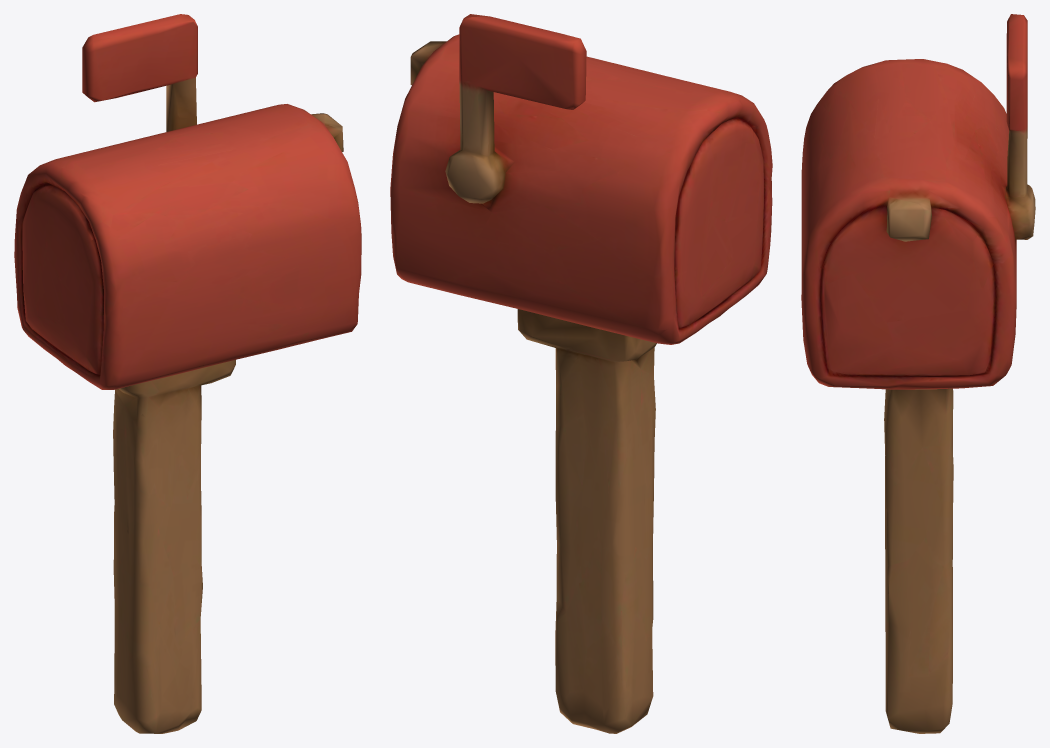
Rendered from mailbox.glb.
3 renders of one model, left to right at view 1: azimuth 30°, elevation 25°; view 2: azimuth 150°, elevation 25°; view 3: azimuth 270°, elevation 25°, orthographic. The views are drawn at different scales.
Visible parts, largest first — view 1: tripo_node_06138657-11fa-49fa-8481-a0b28470b6f9; view 2: tripo_node_06138657-11fa-49fa-8481-a0b28470b6f9; view 3: tripo_node_06138657-11fa-49fa-8481-a0b28470b6f9.
Boxes of the visible parts, x1,y1,x2,y2 form: tripo_node_06138657-11fa-49fa-8481-a0b28470b6f9: (14,14,361,733); tripo_node_06138657-11fa-49fa-8481-a0b28470b6f9: (390,14,772,733); tripo_node_06138657-11fa-49fa-8481-a0b28470b6f9: (801,14,1035,733).
Size of the model in its own units: 0.4424 by 1 by 0.3029.
Materials: 1 (1 with a texture image).
